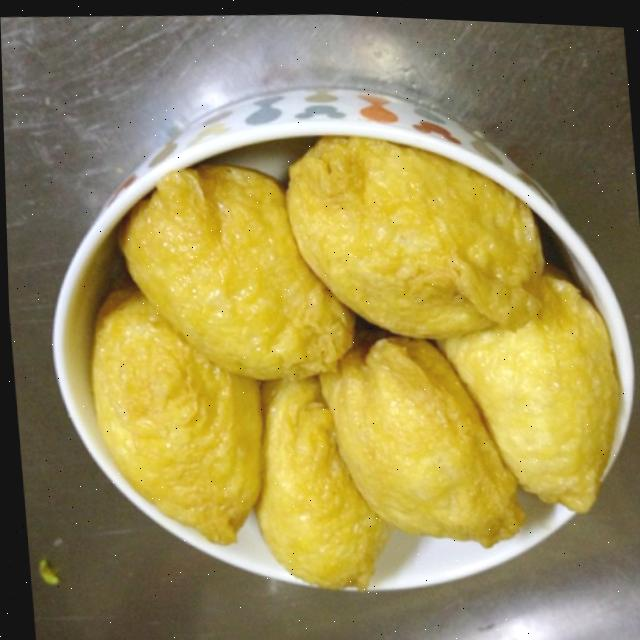寿司卷物: (28, 88, 640, 618)
